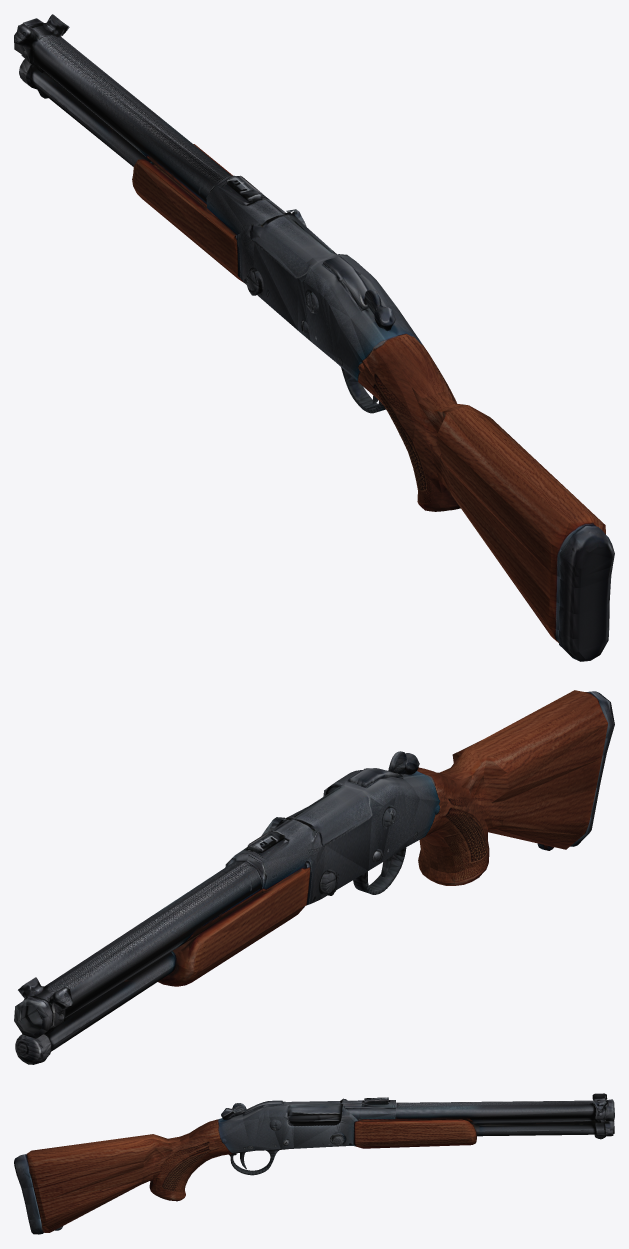
Rendered from shotgun_tripo.glb.
The picture shows the model from 3 angles, top to bottom: view 1: azimuth 30°, elevation 25°; view 2: azimuth 150°, elevation 25°; view 3: azimuth 270°, elevation 25°; orthographic projection. The views are drawn at different scales.
Parts seen in each view (by area): view 1: Shotgun, ShotgunBarrel; view 2: ShotgunBarrel, Shotgun; view 3: Shotgun, ShotgunBarrel.
Boxes of the visible parts, x1,y1,x2,y2 form: Shotgun: (297, 252, 614, 661); ShotgunBarrel: (14, 14, 336, 330); ShotgunBarrel: (14, 786, 371, 1064); Shotgun: (323, 690, 614, 894); Shotgun: (14, 1100, 294, 1234); ShotgunBarrel: (288, 1093, 614, 1148).
Size of the model in its own units: 0.094 by 0.2904 by 1.18.
Materials: 4 (1 with a texture image).
